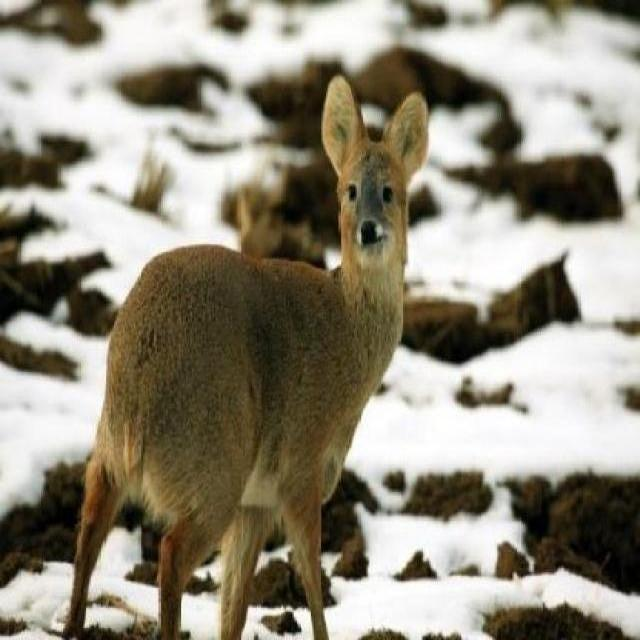deer: (36, 76, 447, 639)
